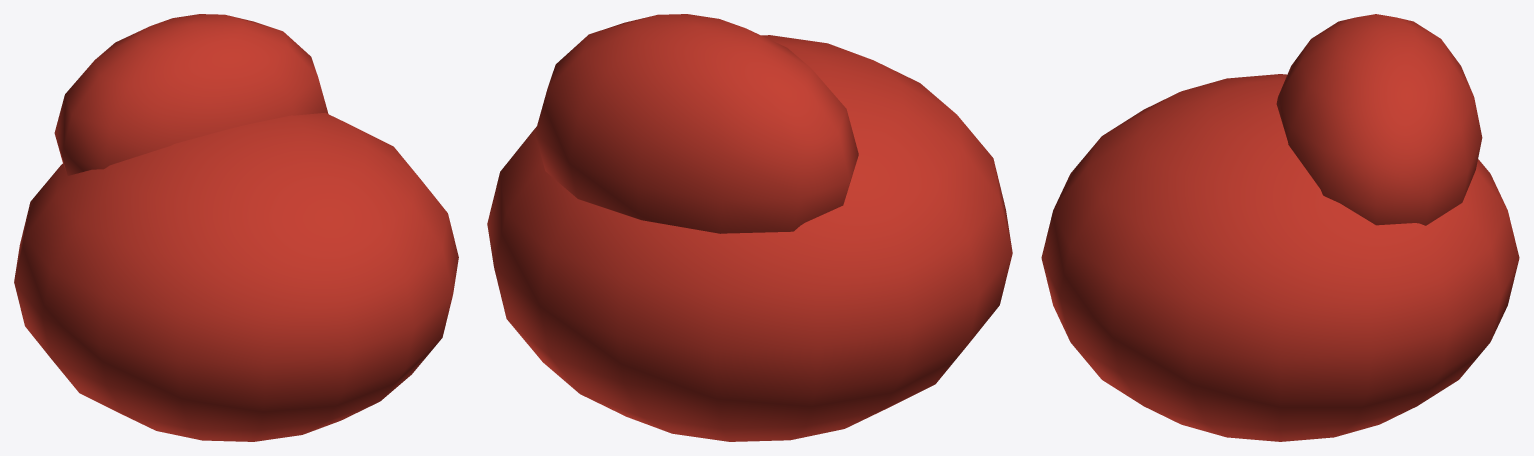
Rendered from beanbag.glb.
The picture shows the model from 3 angles, left to right: view 1: azimuth 30°, elevation 25°; view 2: azimuth 150°, elevation 25°; view 3: azimuth 270°, elevation 25°; orthographic projection. The views are drawn at different scales.
Visible parts, largest first — view 1: beanbag; view 2: beanbag; view 3: beanbag.
Boxes of the visible parts, left/top/right/bottom form: beanbag: left=14, top=14, right=458, bottom=441; beanbag: left=487, top=14, right=1012, bottom=441; beanbag: left=1041, top=14, right=1519, bottom=441.
Size of the model in its own units: 0.9 by 0.77 by 0.9.
